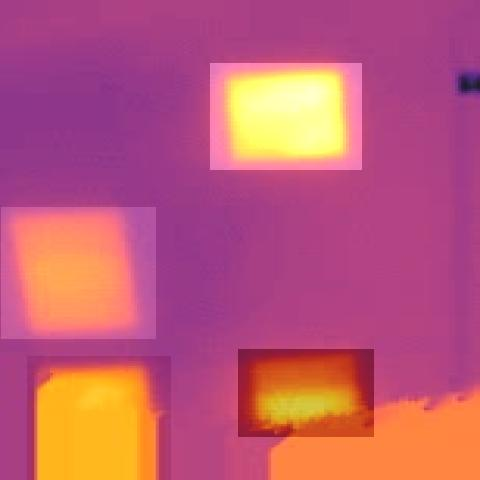fault: (1, 207, 156, 339), (27, 356, 171, 480), (210, 63, 362, 170), (238, 349, 374, 437)
